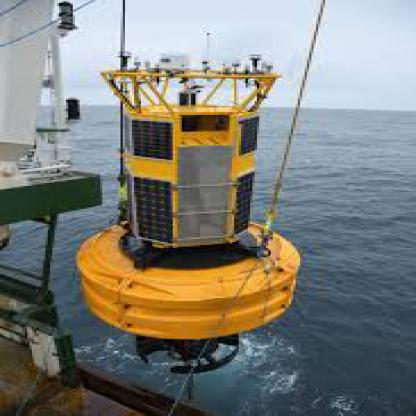buoy: (64, 42, 316, 301)
